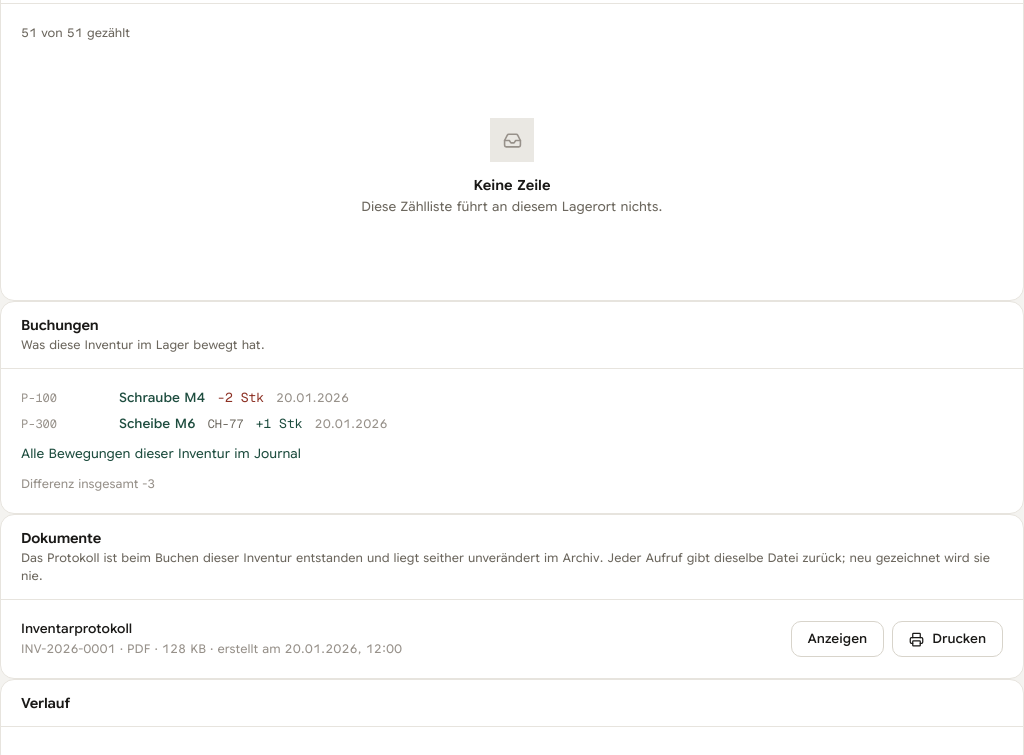
Scenario: StocktakePage › stocktakePageSaysWhenTheProtocolFailedTest
(page scrolled)
Click the button "Anzeigen" at (837, 639), box x1=790 y1=621 x2=884 y2=657
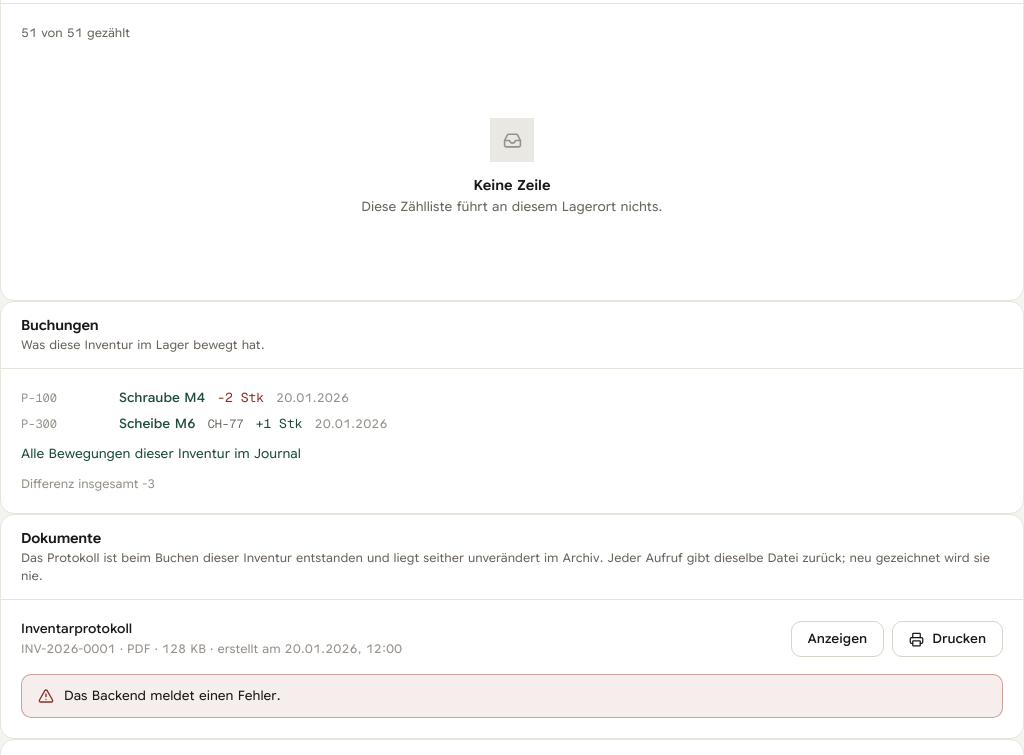
Expected: the message "Das Backend meldet einen Fehler." is shown, x1=21 y1=674 x2=1003 y2=718
